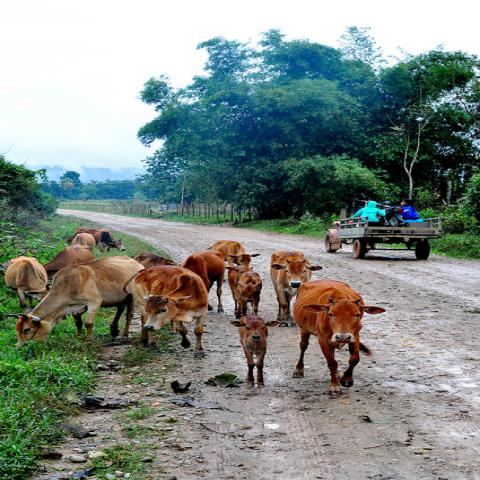truck: (324, 215, 447, 260)
